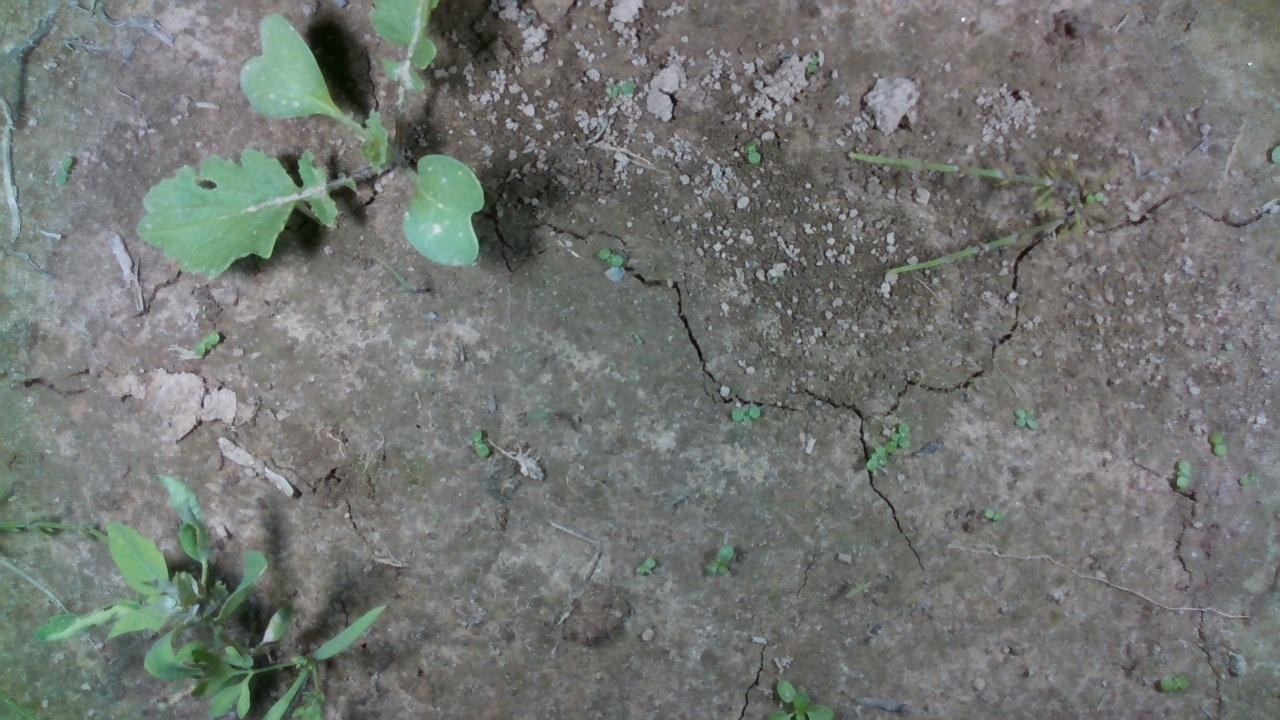weed: (461, 418, 510, 467), (592, 240, 633, 271), (1010, 405, 1043, 443), (728, 398, 772, 424), (1170, 458, 1196, 500), (1204, 431, 1235, 464), (631, 551, 660, 570), (740, 143, 765, 162)
